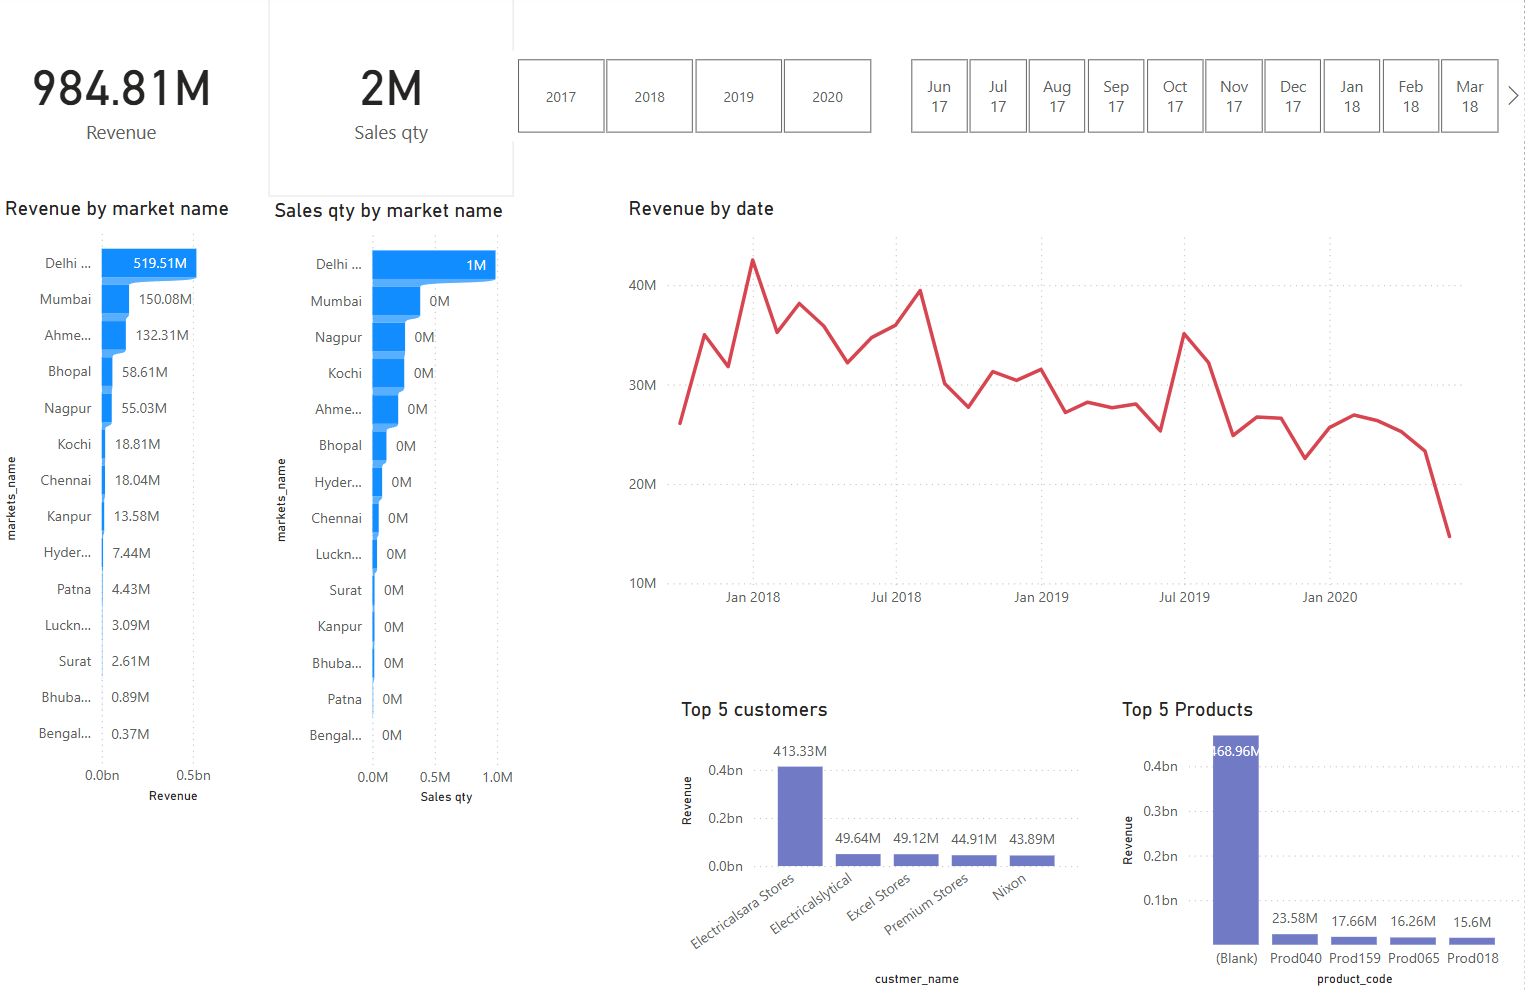

This screenshot's page, from the dashboard's own definition file:
{"tool":"powerbi","page":{"name":"Page 1","canvas":[1300,850],"ordinal":0},"visuals":[{"type":"card","fields":{"Values":["NewMeasure.Revenue"]},"box":[0,0,208.6,172.9],"z":0},{"type":"card","fields":{"Values":["NewMeasure.Sales qty"]},"box":[229.5,0,209.3,173.2],"z":1000},{"type":"barChart","title":"Revenue by market name","fields":{"Y":["NewMeasure.Revenue"],"Category":["sales markets.markets_name"]},"box":[0,173.2,229.5,521.1],"z":2000},{"type":"barChart","title":"Sales qty by market name","fields":{"Y":["NewMeasure.Sales qty"],"Category":["sales markets.markets_name"]},"box":[229.5,174.7,233.9,521.1],"z":3000},{"type":"slicer","fields":{"Values":["sales date.year"]},"box":[415.8,49.1,350.8,76.5],"z":4000},{"type":"slicer","fields":{"Values":["sales date.cy_date"]},"box":[750.7,49.1,550,76.5],"z":5000},{"type":"clusteredColumnChart","title":"Top 5 customers","fields":{"Category":["sales customers.custmer_name"],"Y":["NewMeasure.Revenue"]},"box":[576,599.1,349.4,251.2],"z":6000},{"type":"clusteredColumnChart","title":"Top 5 Products","fields":{"Category":["sales products.product_code"],"Y":["NewMeasure.Revenue"]},"box":[951.3,599.1,349.4,251.2],"z":7000},{"type":"lineChart","title":"Revenue by date","fields":{"Y":["NewMeasure.Revenue"],"Category":["sales date.cy_date"]},"box":[531.3,173.2,733.4,359.5],"z":7001}]}

Visuals, with their boxes in screenshot pixels (x1, y1, x2, y2), scaled from the page's 1300x850 canvas onto the 1525x991 screenshot:
card - NewMeasure.Revenue: {"x1": 0, "y1": 0, "x2": 245, "y2": 202}
card - NewMeasure.Sales qty: {"x1": 269, "y1": 0, "x2": 515, "y2": 202}
"Revenue by market name" barChart: {"x1": 0, "y1": 202, "x2": 269, "y2": 809}
"Sales qty by market name" barChart: {"x1": 269, "y1": 204, "x2": 544, "y2": 811}
slicer - sales date.year: {"x1": 488, "y1": 57, "x2": 899, "y2": 146}
slicer - sales date.cy_date: {"x1": 881, "y1": 57, "x2": 1524, "y2": 146}
"Top 5 customers" clusteredColumnChart: {"x1": 676, "y1": 698, "x2": 1086, "y2": 990}
"Top 5 Products" clusteredColumnChart: {"x1": 1116, "y1": 698, "x2": 1524, "y2": 990}
"Revenue by date" lineChart: {"x1": 623, "y1": 202, "x2": 1484, "y2": 621}
